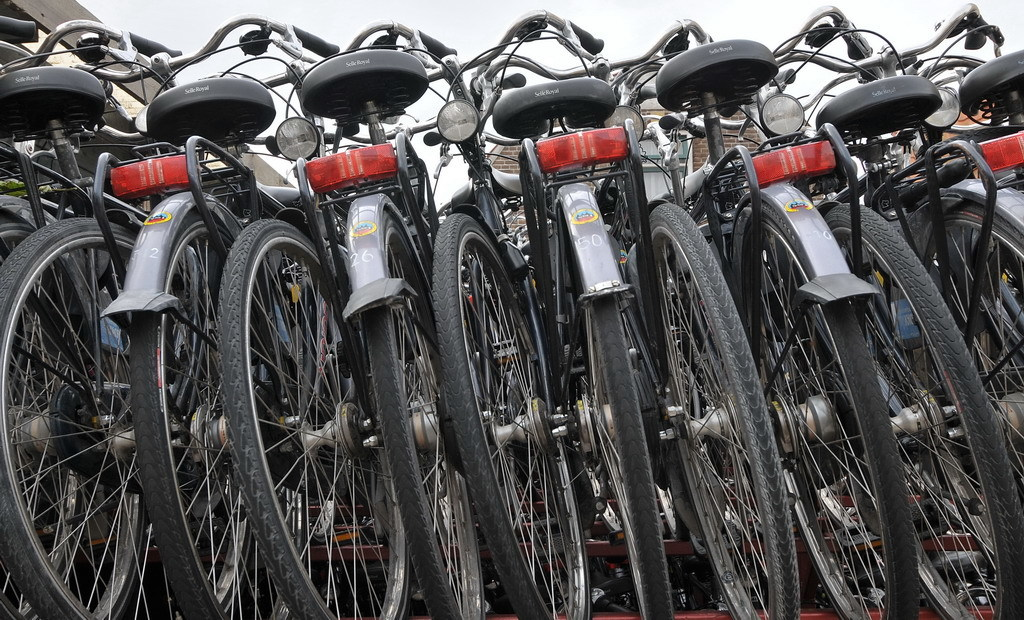Bike: (472, 61, 772, 615)
